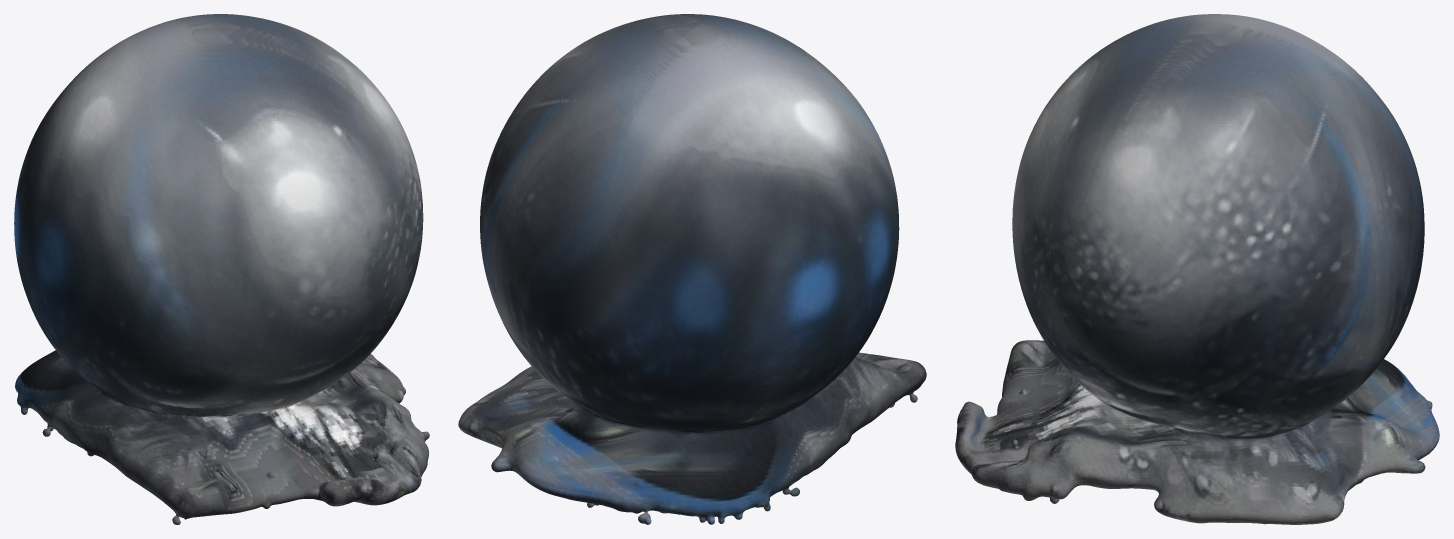
Rendered from nanite_sludge.glb.
The picture shows the model from 3 angles, left to right: view 1: azimuth 30°, elevation 25°; view 2: azimuth 150°, elevation 25°; view 3: azimuth 270°, elevation 25°; orthographic projection. The views are drawn at different scales.
Bounding box in the file's own units: 1.38 × 1.49 × 1.57.
Materials: 1 (1 with a texture image).
